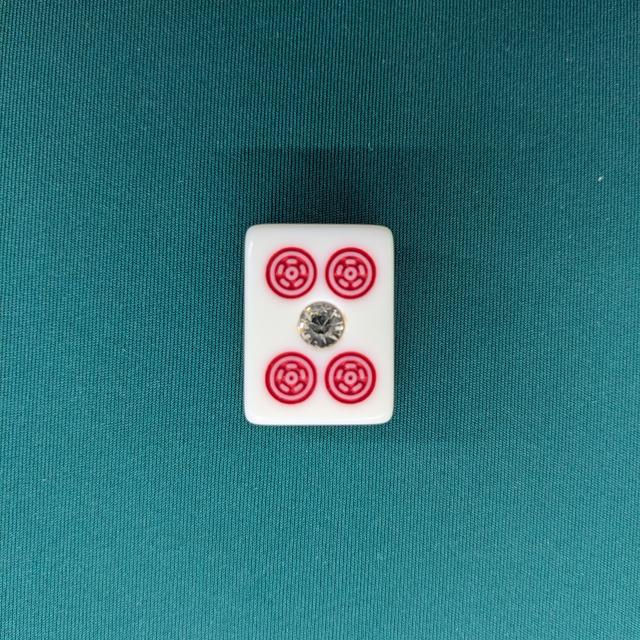D5p: (245, 223, 397, 428)
